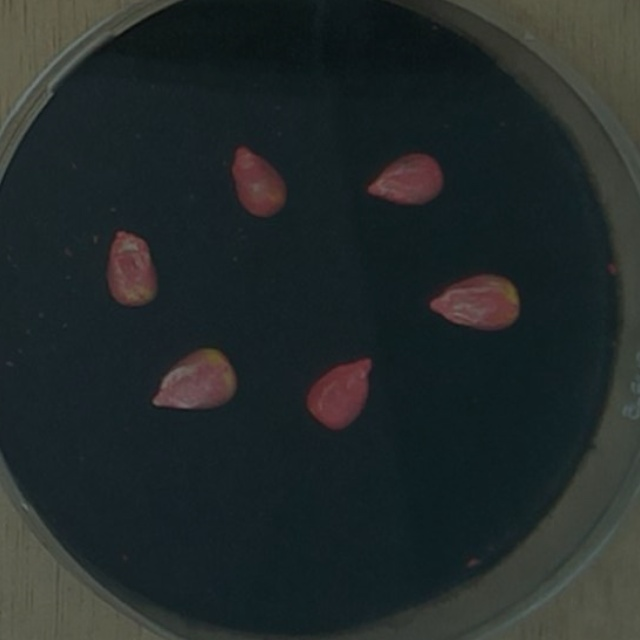Zea mays: (420, 264, 529, 339), (144, 339, 245, 419), (297, 348, 382, 439), (358, 145, 453, 216), (222, 139, 295, 228), (99, 221, 167, 315)
